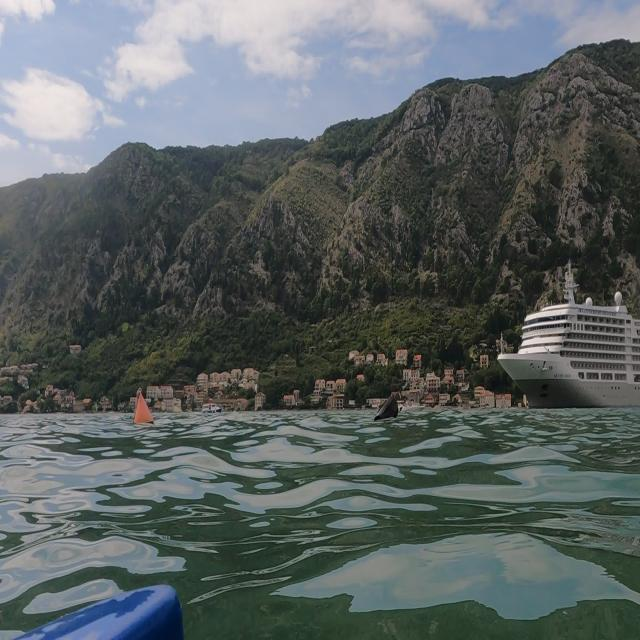boat: (495, 256, 639, 410)
buoy: (370, 392, 406, 431), (128, 385, 158, 431)
